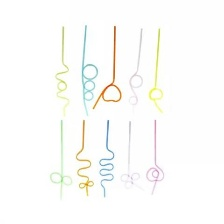drinking_straw: (90, 24, 125, 113), (142, 23, 170, 115), (50, 24, 75, 117), (47, 118, 74, 202), (94, 119, 121, 200), (142, 117, 167, 199)
